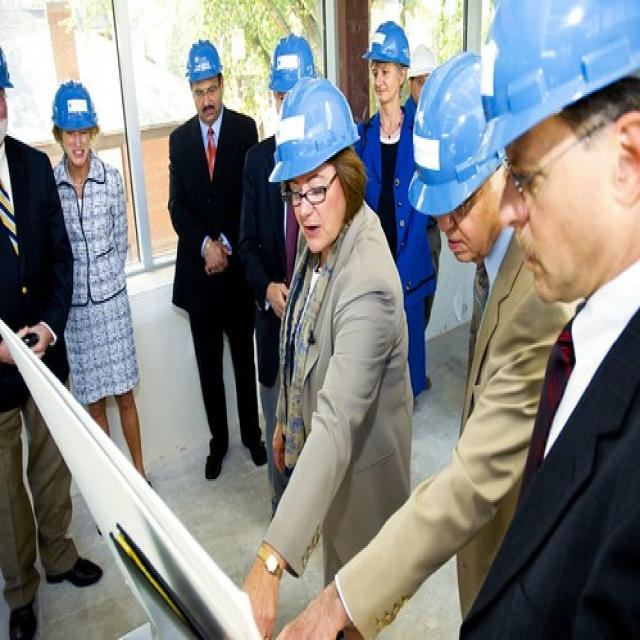Safety-Helmet: (473, 0, 639, 149), (406, 52, 506, 216), (270, 75, 360, 182), (47, 73, 100, 134), (362, 19, 412, 69), (183, 36, 224, 84), (0, 34, 18, 100)
